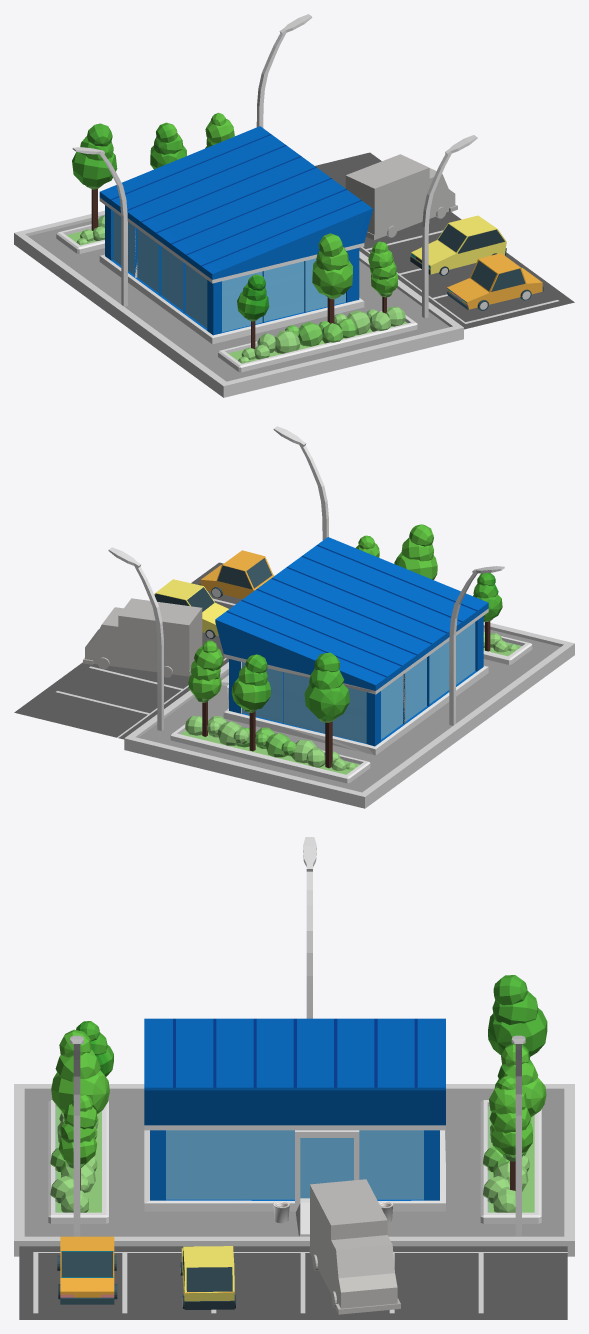
File: shop.fbx
The picture shows the model from 3 angles, top to bottom: view 1: azimuth 30°, elevation 25°; view 2: azimuth 150°, elevation 25°; view 3: azimuth 270°, elevation 25°; orthographic projection. The views are drawn at different scales.
Visible parts, largest first — view 1: Shop; view 2: Shop; view 3: Shop.
Part boxes in pixels (x1,y1,x2,y2): Shop: (14, 14, 574, 397); Shop: (14, 426, 574, 808); Shop: (14, 837, 574, 1319).
Bounding box in the file's own units: 757 × 332 × 696.
